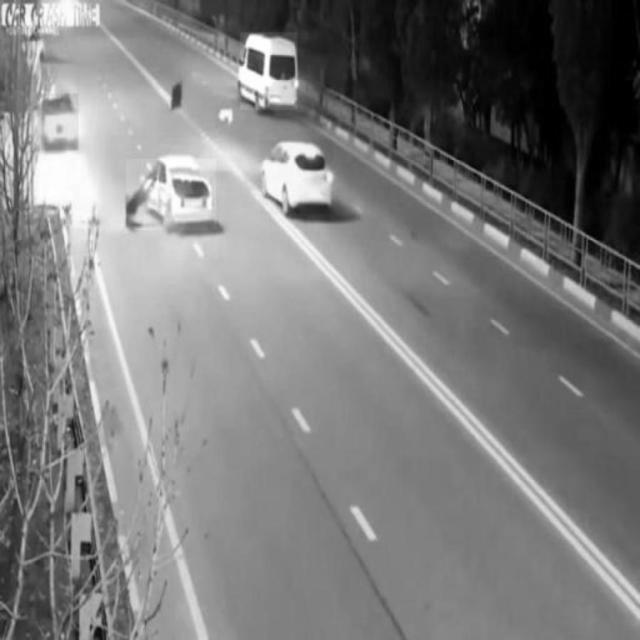accident: (127, 159, 217, 230)
vehicle: (259, 141, 333, 214), (241, 33, 298, 110), (41, 94, 78, 150)
